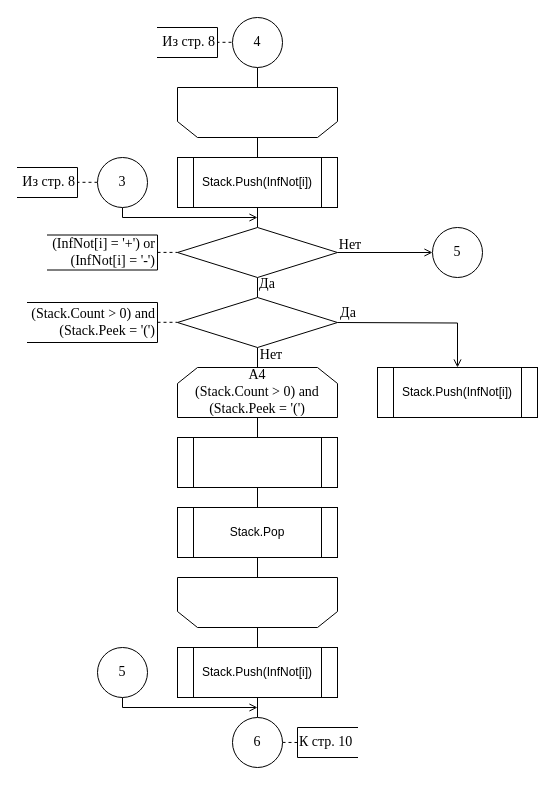
Image size: 555x785. Some labels were removed from this diagram. Here are the shapes that lost their labels. From the top down, the centre of each, then its label:
At (x=257, y=112): "A3".
At (x=257, y=462): "PostNot.Insert (PostNot.Length, InfNot[i])".
At (x=257, y=602): "A4".
